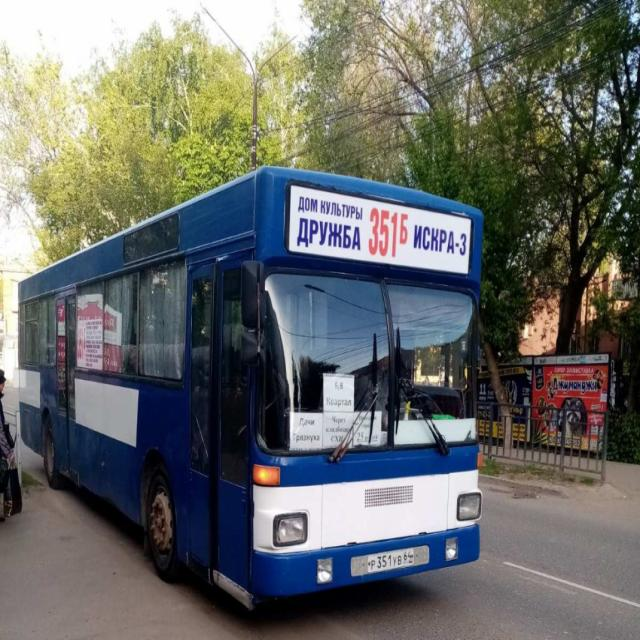number-of-bus: (368, 196, 411, 261)
